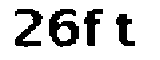2: (12, 6, 43, 51)
6: (47, 6, 80, 48)
f: (82, 5, 107, 53)
t: (110, 10, 142, 52)
